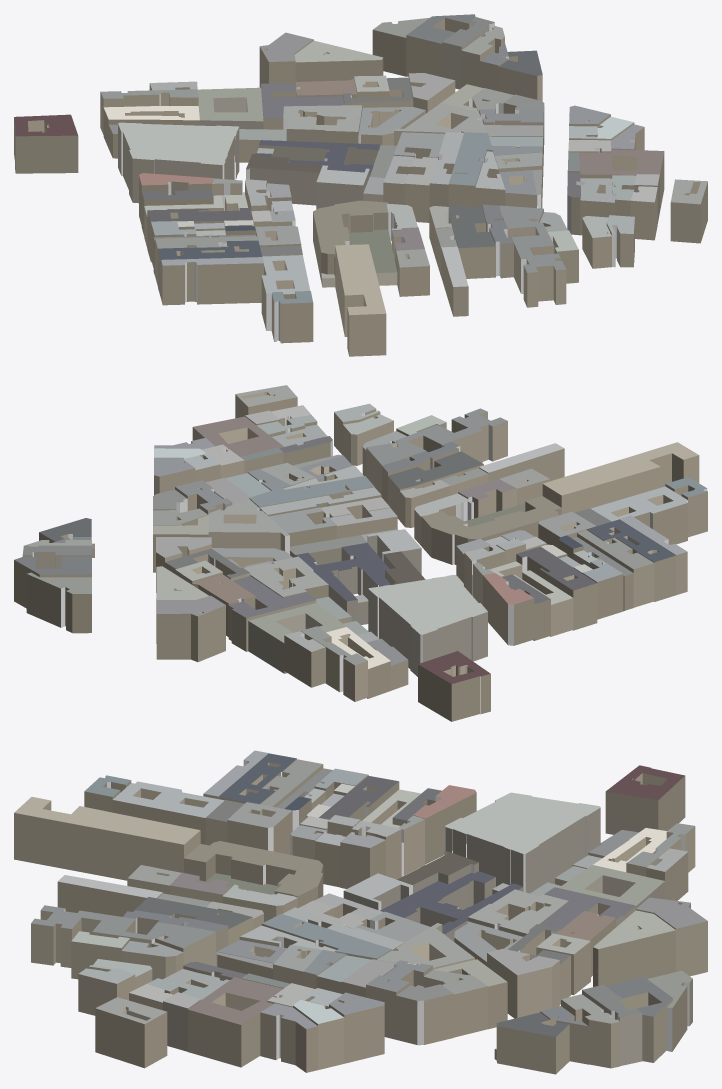
The picture shows the model from 3 angles, top to bottom: view 1: azimuth 30°, elevation 25°; view 2: azimuth 150°, elevation 25°; view 3: azimuth 270°, elevation 25°; orthographic projection. The views are drawn at different scales.
Visible parts, largest first — view 1: tuile; view 2: tuile; view 3: tuile.
Part boxes in pixels (x1=…): tuile: x1=14, y1=14, x2=707, y2=356; tuile: x1=14, y1=385, x2=707, y2=721; tuile: x1=14, y1=750, x2=707, y2=1074.
Size of the model in its own units: 283 by 26.57 by 298.
